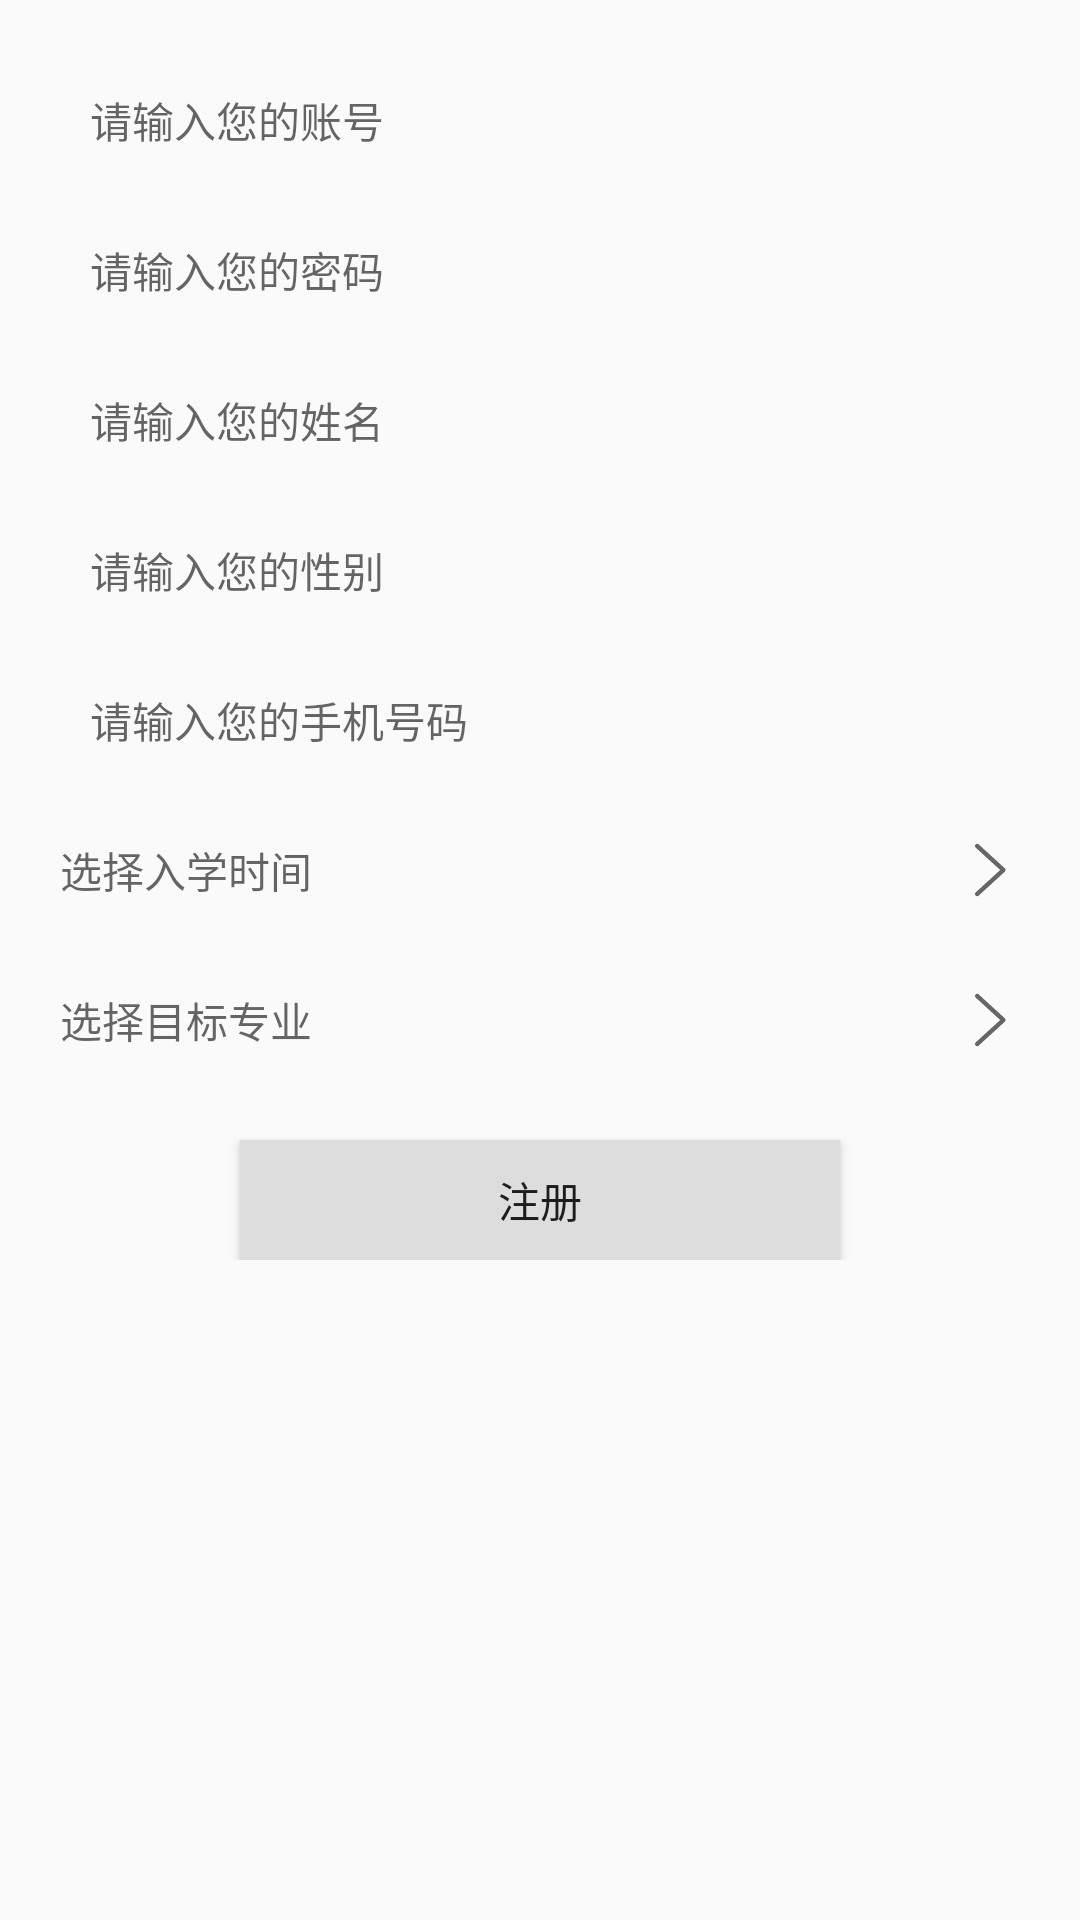

Where icons sit on this 1080x1920 app screen, as (x1, y1, x2, y2):
right: (975, 844, 1006, 896), (975, 994, 1006, 1046)
